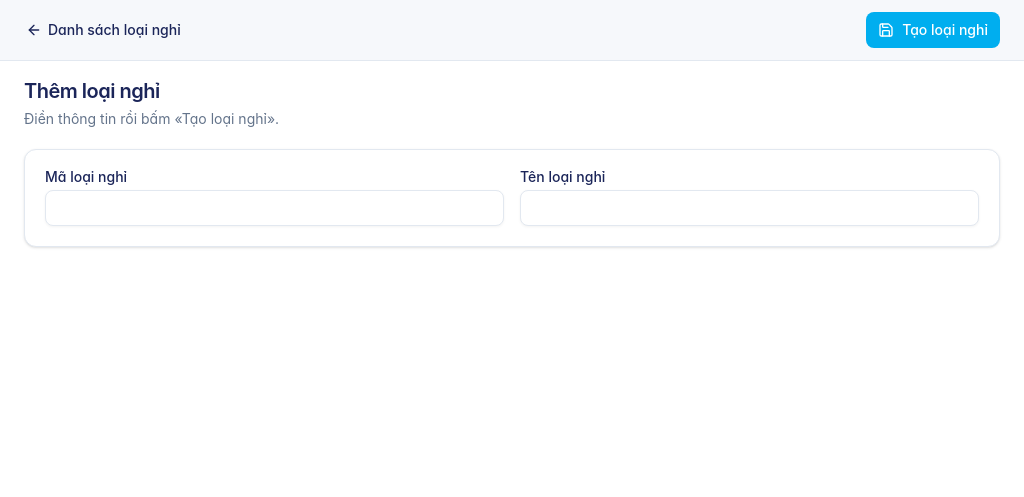
Scenario: CrudDetailPage — thêm mới › lưu bằng POST rồi ĐI TIẾP sang bản ghi vừa tạo
Type "moi" into the field labelled "Mã loại nghỉ" at {"x": 274, "y": 208}, box 45,190 -> 504,226
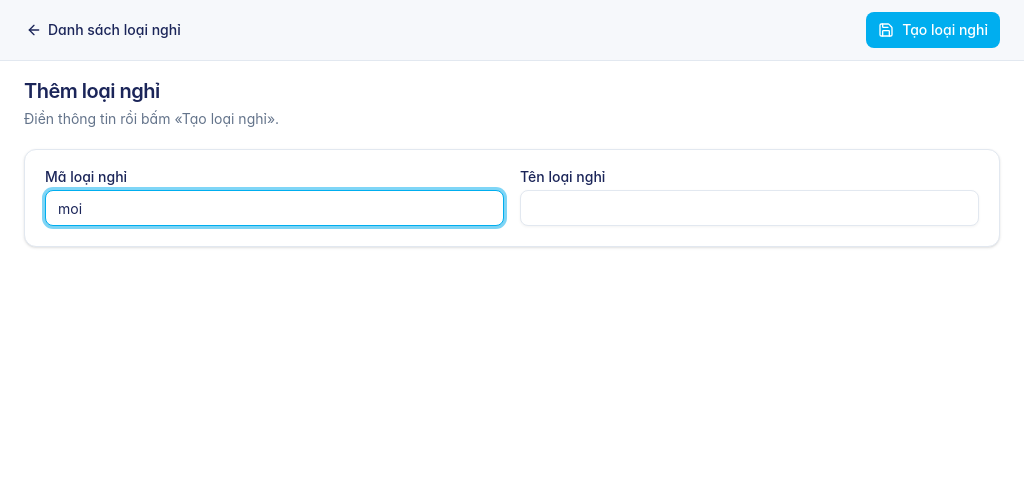
Type "Loại mới" into the field labelled "Tên loại nghỉ" at {"x": 750, "y": 208}, box 520,190 -> 979,226
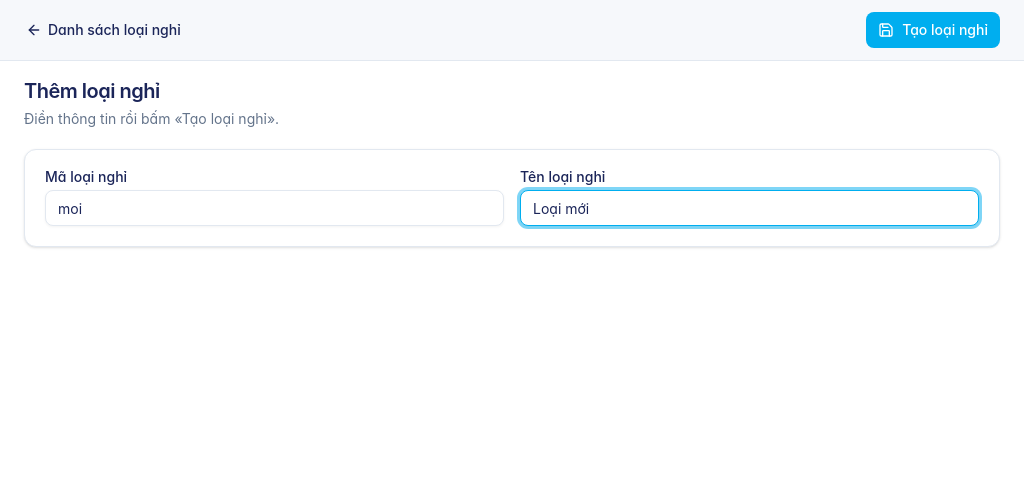
Click the button "Tạo loại nghỉ" at {"x": 933, "y": 30}, box 866,12 -> 1000,48
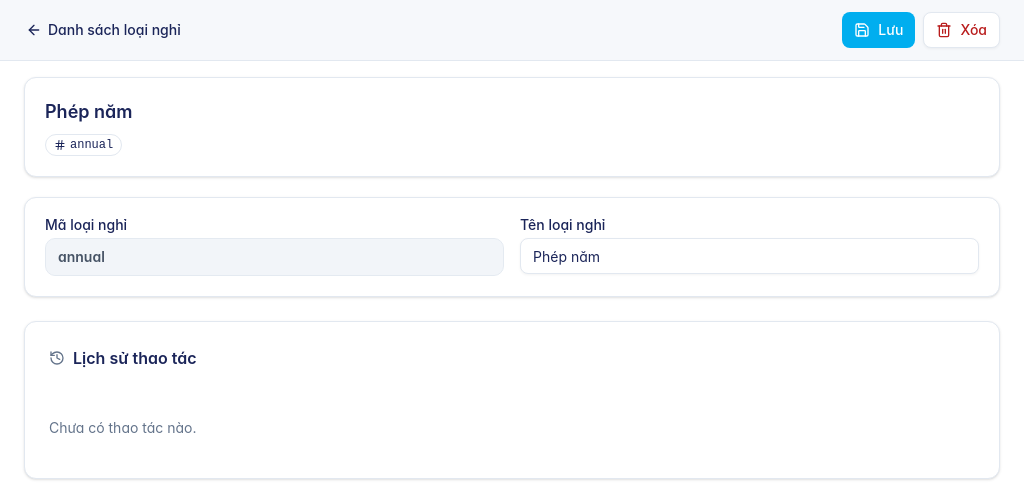
Check: the heading "Thêm loại nghỉ" is gone
